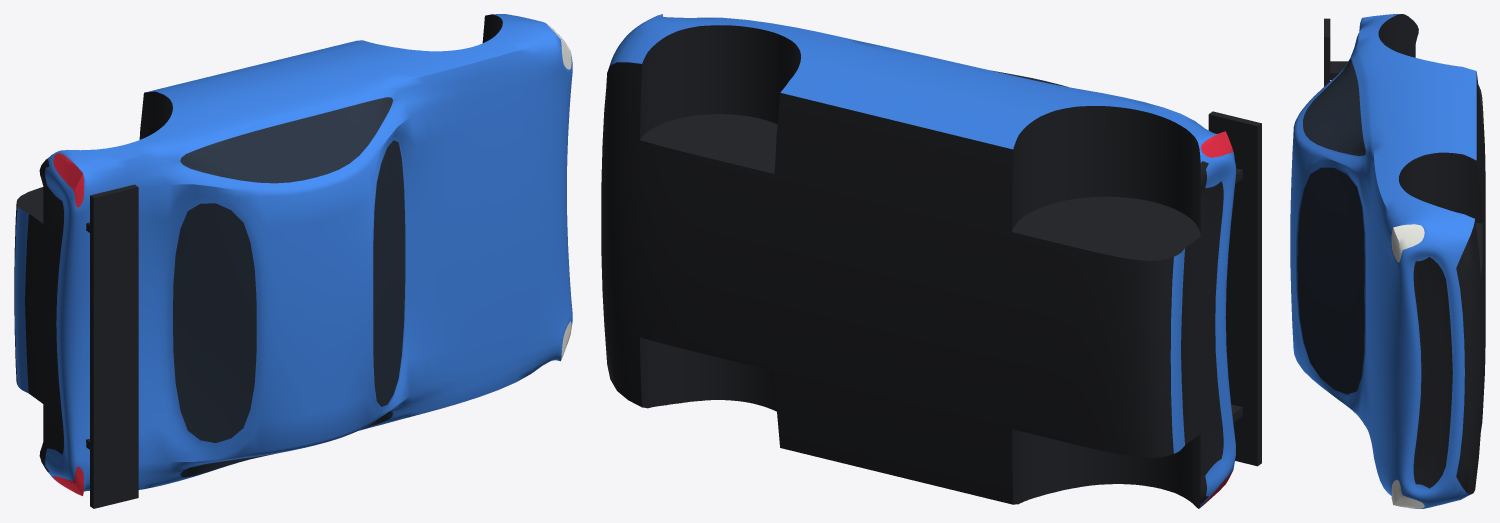
File: mixto.glb
The picture shows the model from 3 angles, left to right: view 1: azimuth 30°, elevation 25°; view 2: azimuth 150°, elevation 25°; view 3: azimuth 270°, elevation 25°; orthographic projection. The views are drawn at different scales.
Visible parts, largest first — view 1: mixto; view 2: mixto; view 3: mixto.
Boxes of the visible parts, x1,y1,x2,y2 form: mixto: (14,14,572,508); mixto: (601,14,1261,508); mixto: (1290,14,1485,508).
Size of the model in its own units: 129 by 81.75 by 48.12.
